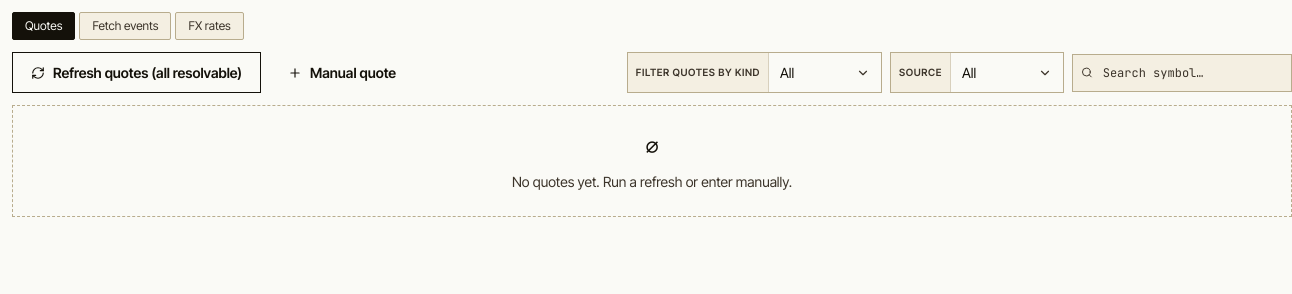
Test: InstrumentsMarketData — FX rates [fx-1] › renders FX rates table with pair, rate, as_of, source
Click the tab "FX rates" at (210, 26), box [175,12,244,40]
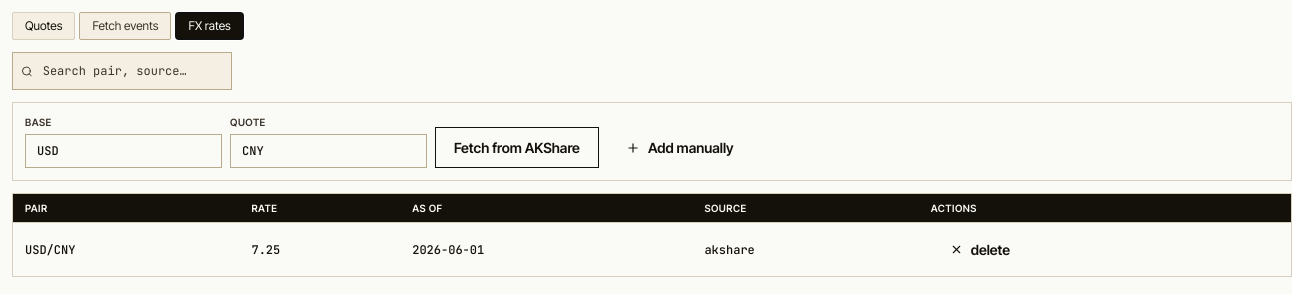
Result: the text "USD/CNY" is shown at [13,222,240,276]
Result: the text "7.25" is shown at [240,222,400,276]
Result: the text "2026-06-01" is shown at [400,222,692,276]
